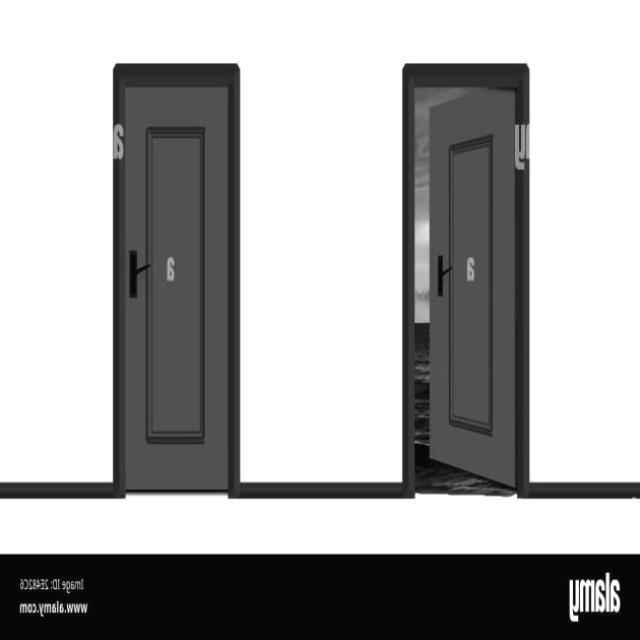door: (113, 63, 238, 492), (424, 86, 522, 482)
